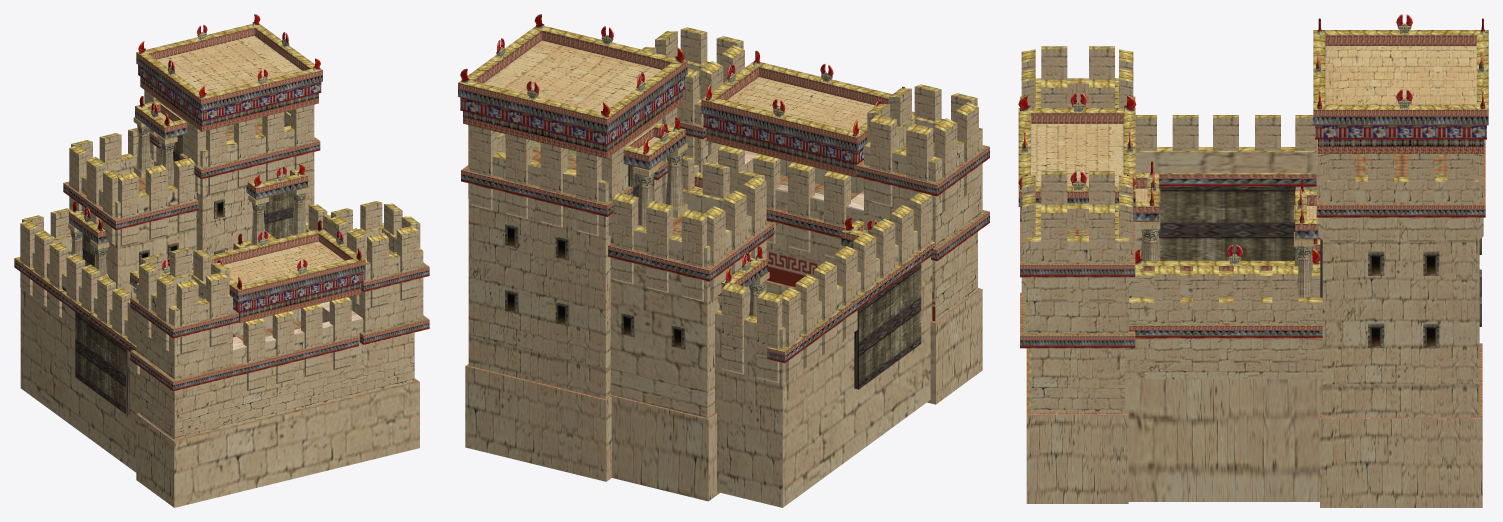
File: fortress.dae
The picture shows the model from 3 angles, left to right: view 1: azimuth 30°, elevation 25°; view 2: azimuth 150°, elevation 25°; view 3: azimuth 270°, elevation 25°; orthographic projection. The views are drawn at different scales.
Parts seen in each view (by area): view 1: fortress; view 2: fortress; view 3: fortress.
Boxes of the visible parts, x1,y1,x2,y2 form: fortress: (14,14,429,507); fortress: (458,14,989,507); fortress: (1018,14,1488,507).
Bounding box in the file's own units: 21.9 × 25.57 × 25.18.
